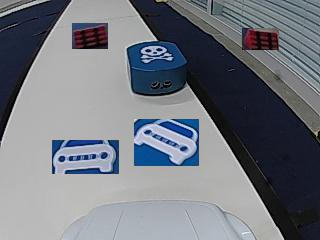danger: (140, 44, 172, 63)
